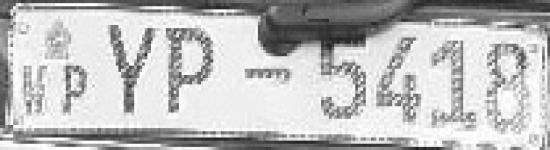-: (238, 57, 294, 90)
1: (425, 31, 482, 137)
4: (374, 32, 427, 127)
5: (318, 28, 370, 122)
8: (484, 36, 538, 137)
P: (160, 22, 221, 125), (58, 62, 90, 120)
W: (19, 61, 52, 121)
Y: (106, 17, 159, 122)
